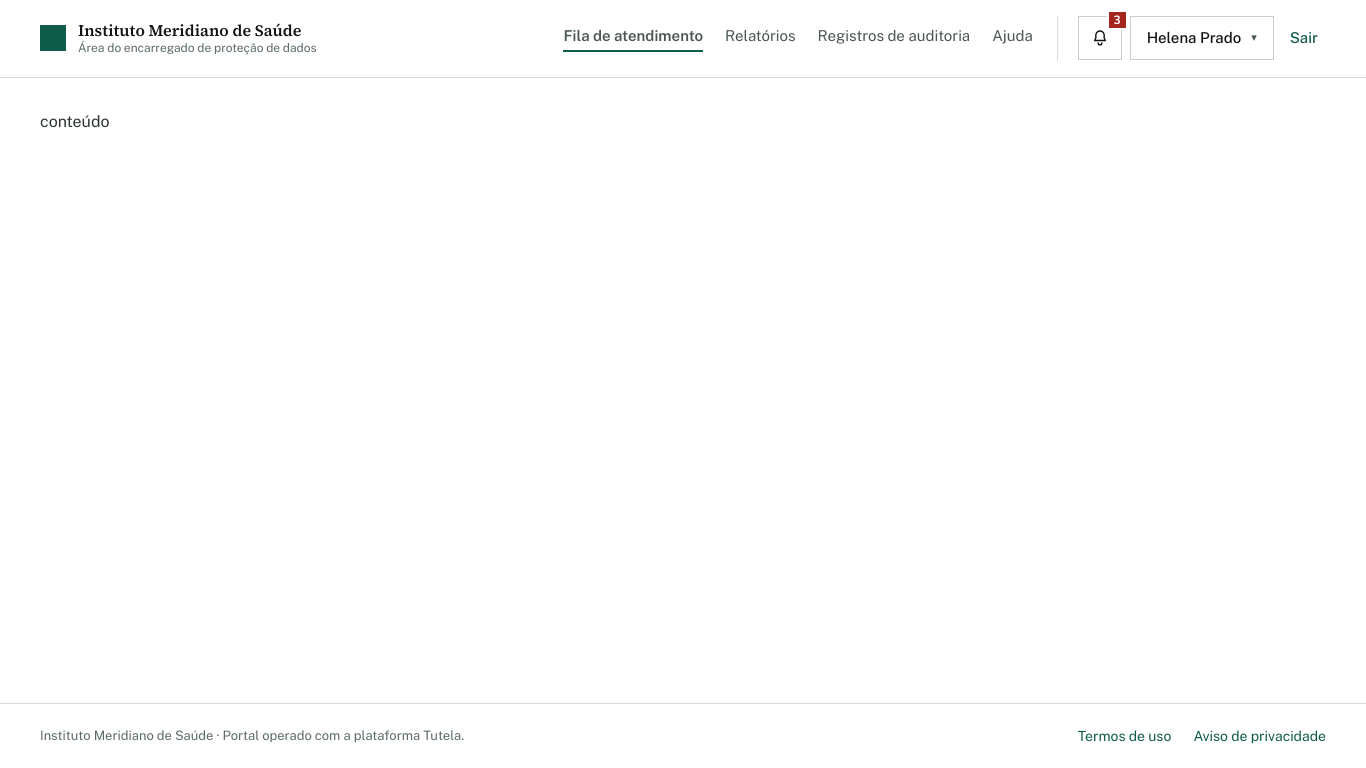
Test: AppShell › conta os avisos não lidos no sino e zera a contagem ao marcar como lidos
The image size is (1366, 768).
Click the button "3". click: (1100, 38)
box: top-left (1078, 16), bottom-right (1122, 60)
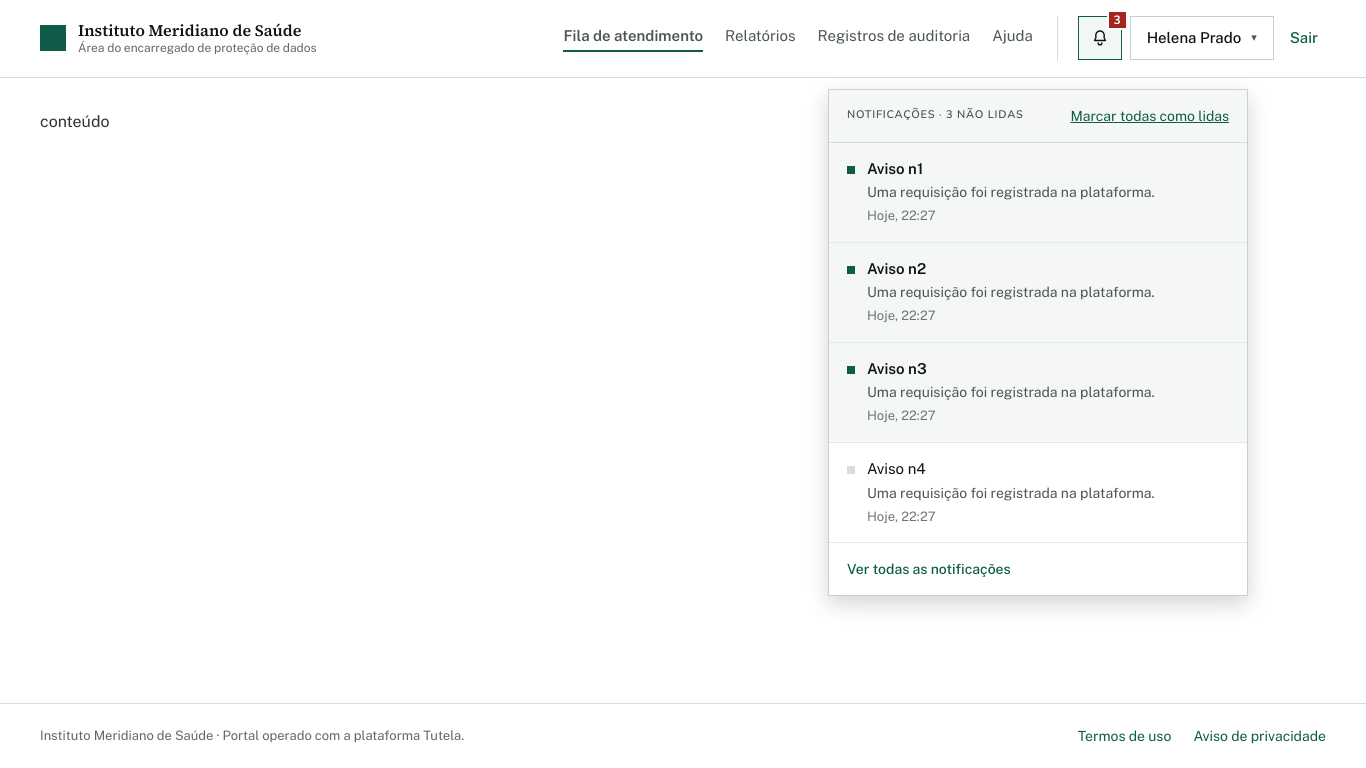
Click the button "Marcar todas como lidas". click: (1150, 116)
box: top-left (1070, 104), bottom-right (1229, 128)
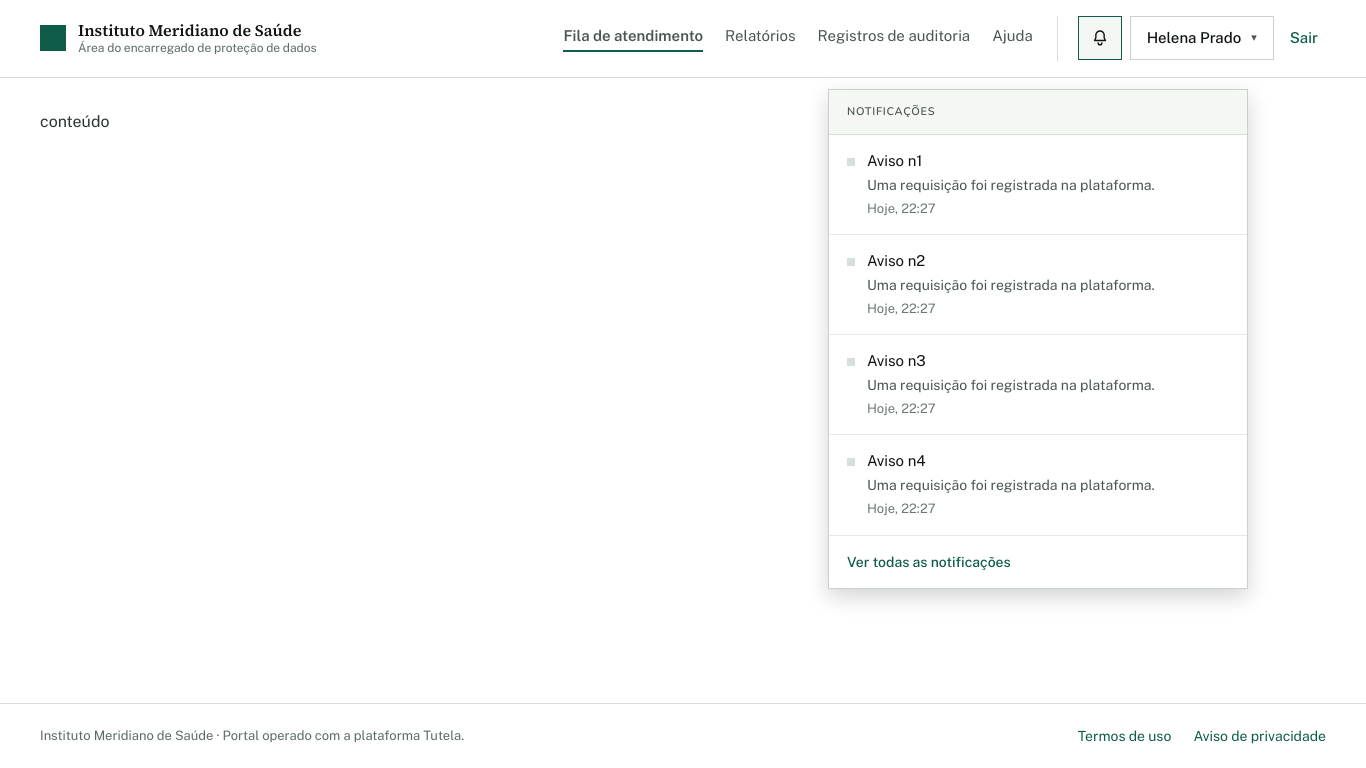
Result: the text "3" is gone
